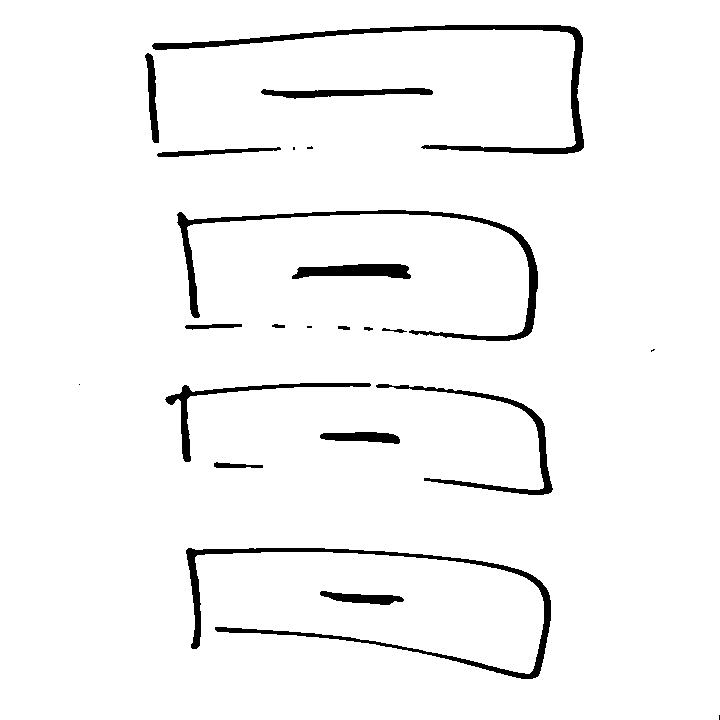button: (126, 19, 602, 165), (179, 540, 564, 686), (167, 206, 545, 351), (161, 380, 561, 498)
